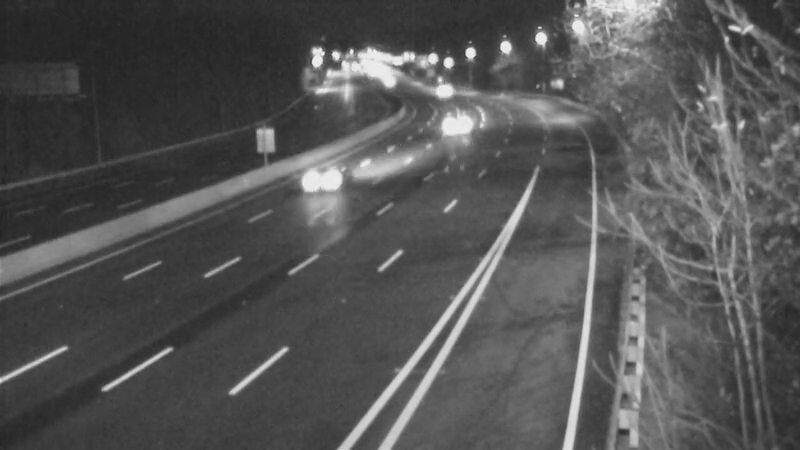vehicle: (287, 136, 367, 216), (419, 66, 469, 116), (427, 98, 477, 148)
